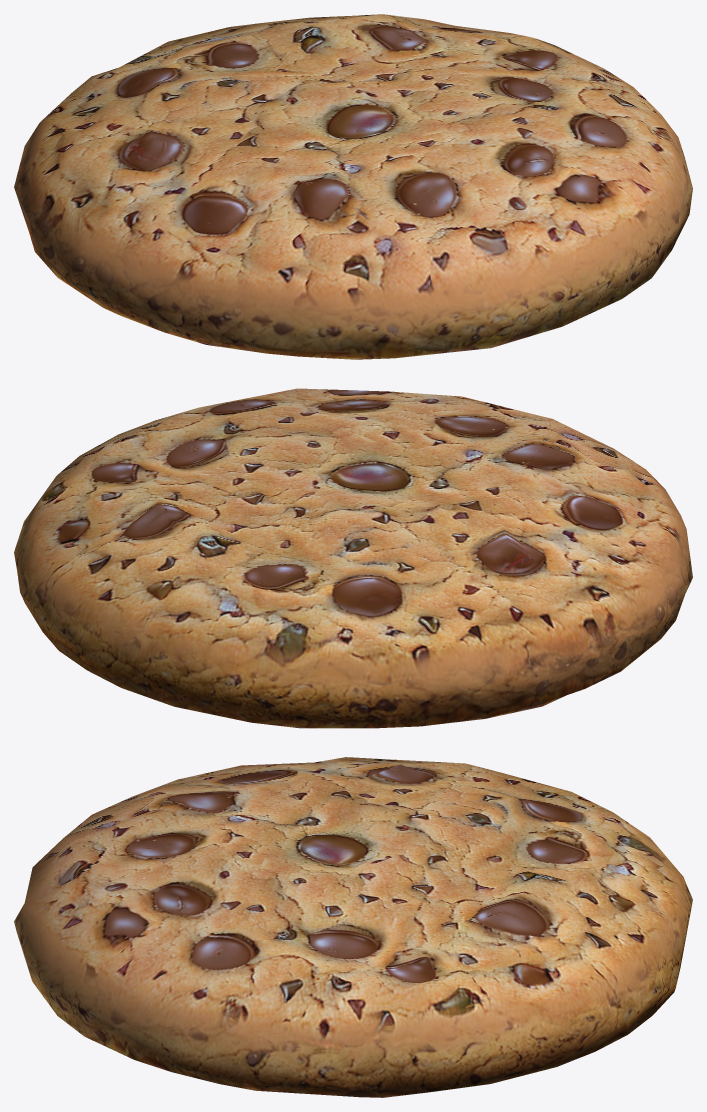
File: Cookie.gltf
3 renders of one model, top to bottom at view 1: azimuth 30°, elevation 25°; view 2: azimuth 150°, elevation 25°; view 3: azimuth 270°, elevation 25°, orthographic.
Parts seen in each view (by area): view 1: Cookie; view 2: Cookie; view 3: Cookie.
Part boxes in pixels (left/top/right/bottom): Cookie: left=14, top=14, right=692, bottom=359; Cookie: left=14, top=388, right=692, bottom=728; Cookie: left=14, top=757, right=692, bottom=1097.
Bounding box in the file's own units: 1.18 × 0.2572 × 1.19.
Materials: 1 (1 with a texture image).
